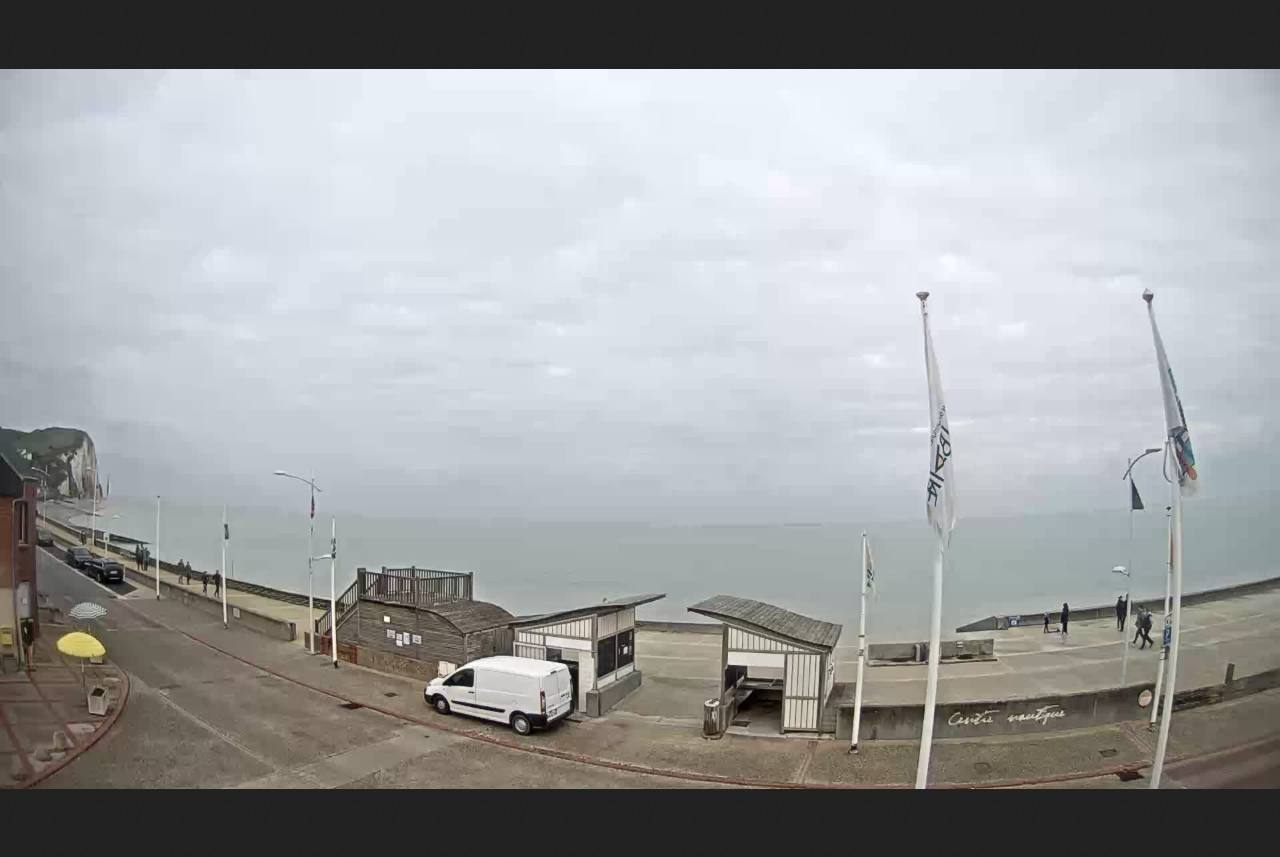no: (1140, 290, 1202, 497), (912, 284, 959, 550), (858, 536, 877, 594), (326, 520, 338, 563), (219, 511, 234, 545)
